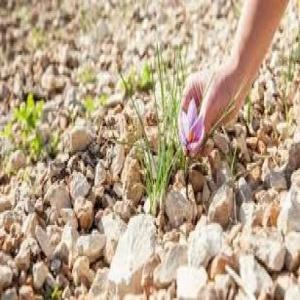Saffron: (176, 100, 204, 157)
